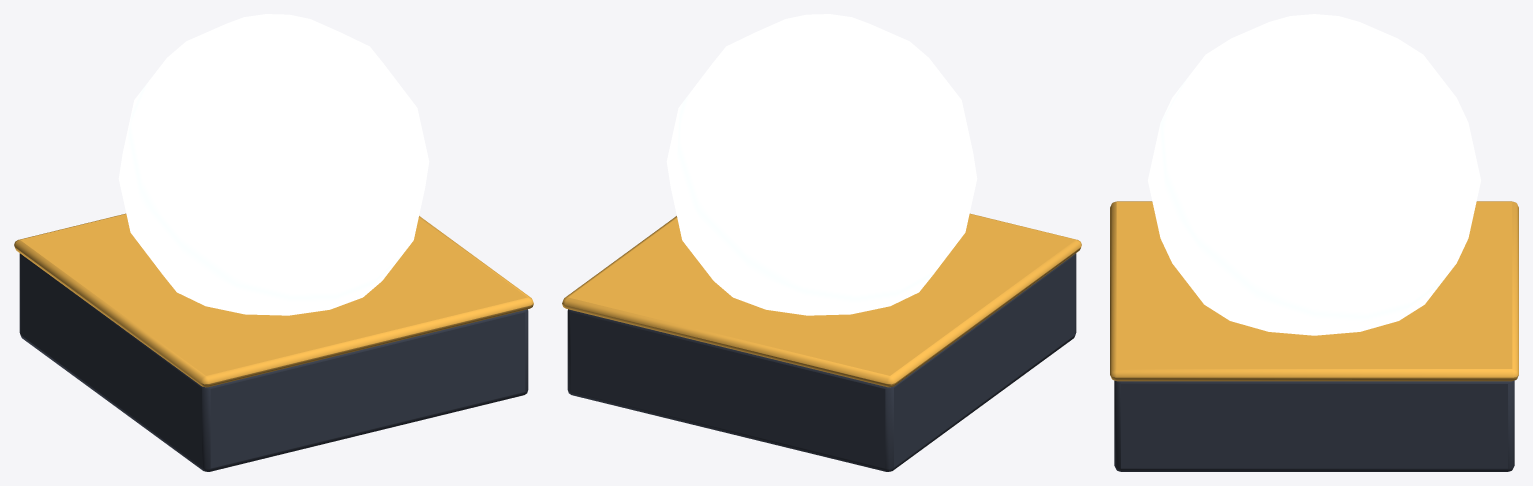
The model's file is ampel.fbx.
3 views of the same model, side by side, from view 1: azimuth 30°, elevation 25°; view 2: azimuth 150°, elevation 25°; view 3: azimuth 270°, elevation 25° (orthographic). The views are drawn at different scales.
Parts seen in each view (by area): view 1: ampel_Koerper, ampel_Licht; view 2: ampel_Koerper, ampel_Licht; view 3: ampel_Licht, ampel_Koerper.
Boxes of the visible parts, x1,y1,x2,y2 form: ampel_Koerper: (14, 213, 533, 471); ampel_Licht: (118, 14, 429, 315); ampel_Koerper: (562, 213, 1081, 471); ampel_Licht: (666, 14, 977, 315); ampel_Licht: (1148, 14, 1480, 335); ampel_Koerper: (1110, 201, 1518, 471).
Bounding box in the file's own units: 0.92 × 0.895 × 0.92.
